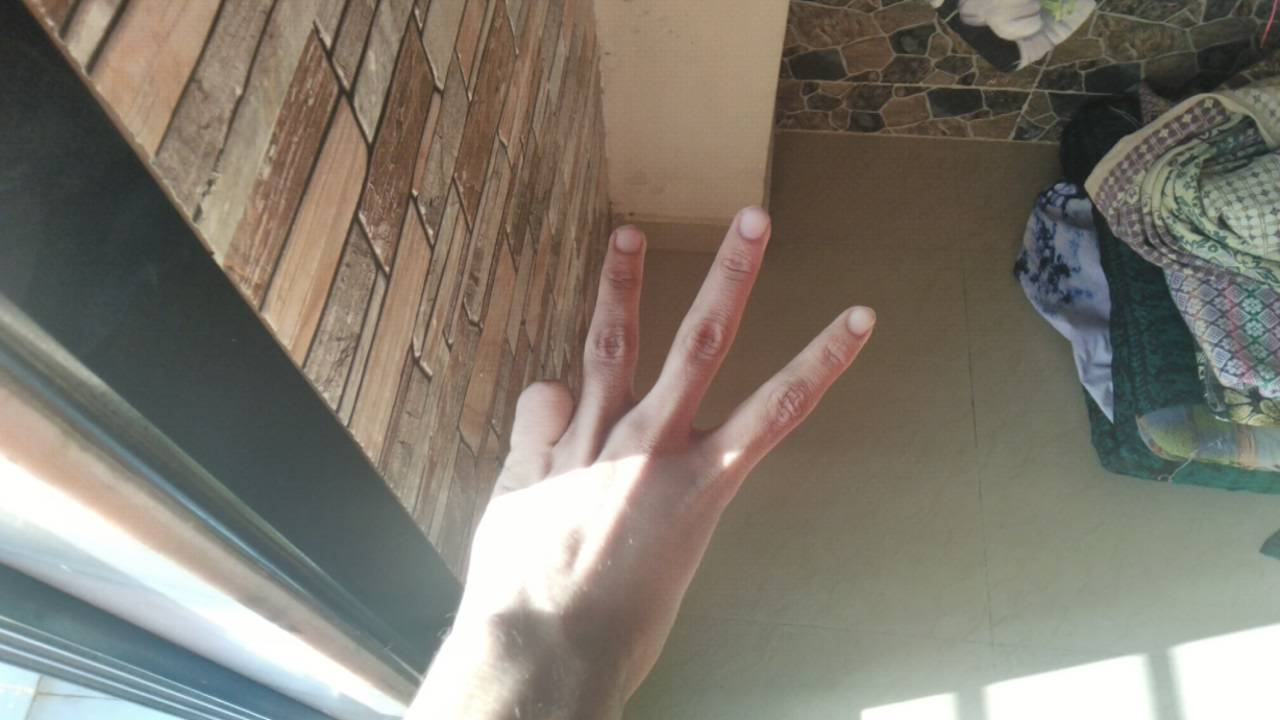fingertip: (826, 294, 890, 348), (722, 196, 778, 252), (600, 214, 652, 264)
